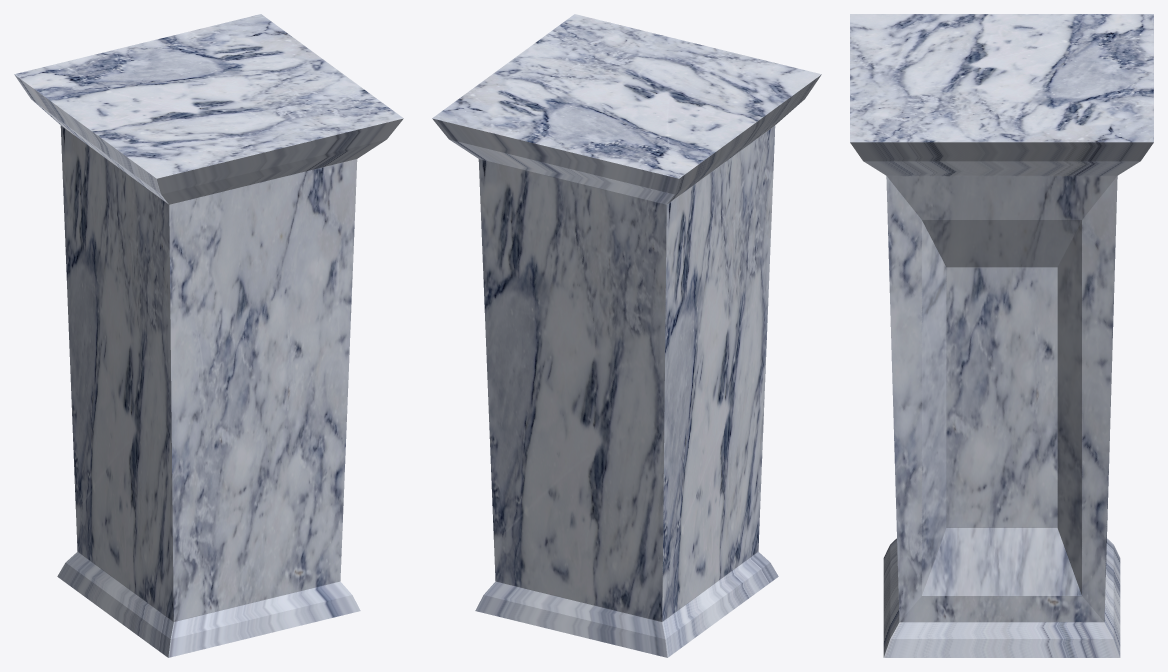
The model's file is pilar.glb.
3 renders of one model, left to right at view 1: azimuth 30°, elevation 25°; view 2: azimuth 150°, elevation 25°; view 3: azimuth 270°, elevation 25°, orthographic. The views are drawn at different scales.
Parts seen in each view (by area): view 1: Cube; view 2: Cube; view 3: Cube.
Boxes of the visible parts, box(x1,y1,x2,y2) form: Cube: box(14, 14, 403, 657); Cube: box(432, 14, 821, 657); Cube: box(850, 14, 1153, 657).
Bounding box in the file's own units: 2.97 × 5.7 × 2.97.
Materials: 1 (1 with a texture image).
